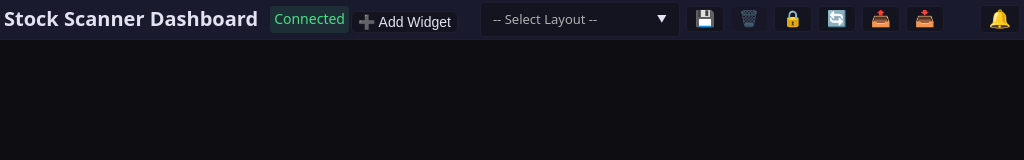
Test: dashboardColNum input control › with isLocked false expect col-num input visible
The image size is (1024, 160).
Act — unlock
Click the button "🔒" at (793, 19), box [774,6,812,32]
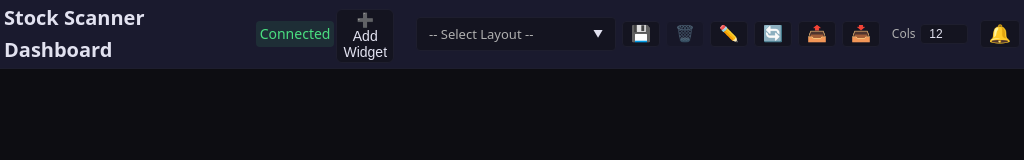
Now the number field with class "col-num-input" is shown, box [920,24,968,44]
